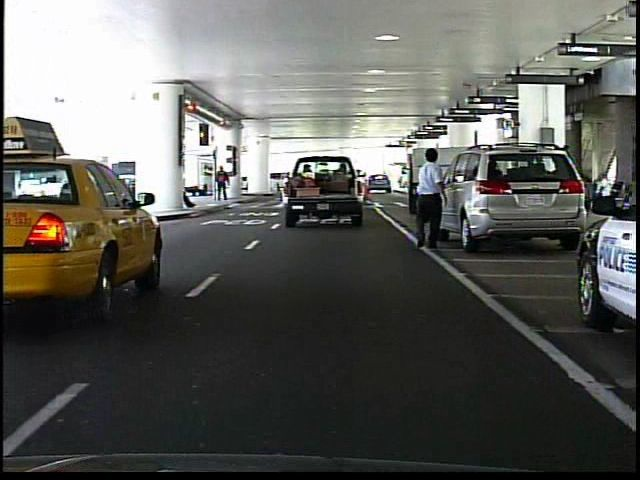person: (406, 145, 454, 253), (214, 163, 234, 204)
